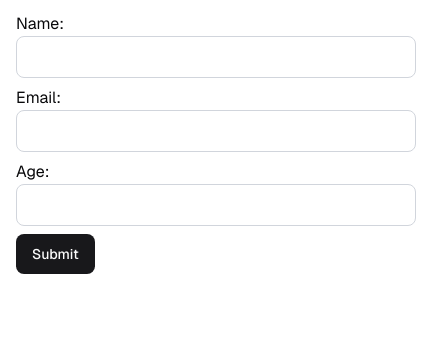
it: UserForm Component › shows validation errors when form submitted with empty fields
This screenshot has width=433, height=363.
Click the button "Submit" at {"x": 55, "y": 254}, box [16,234,95,274]
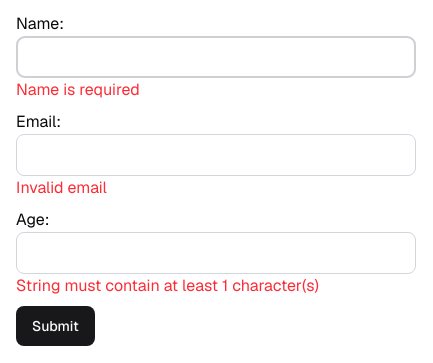
Result: the text "Name is required" is shown at [16,79,140,100]
Result: the text "Invalid email" is shown at [16,177,107,198]
